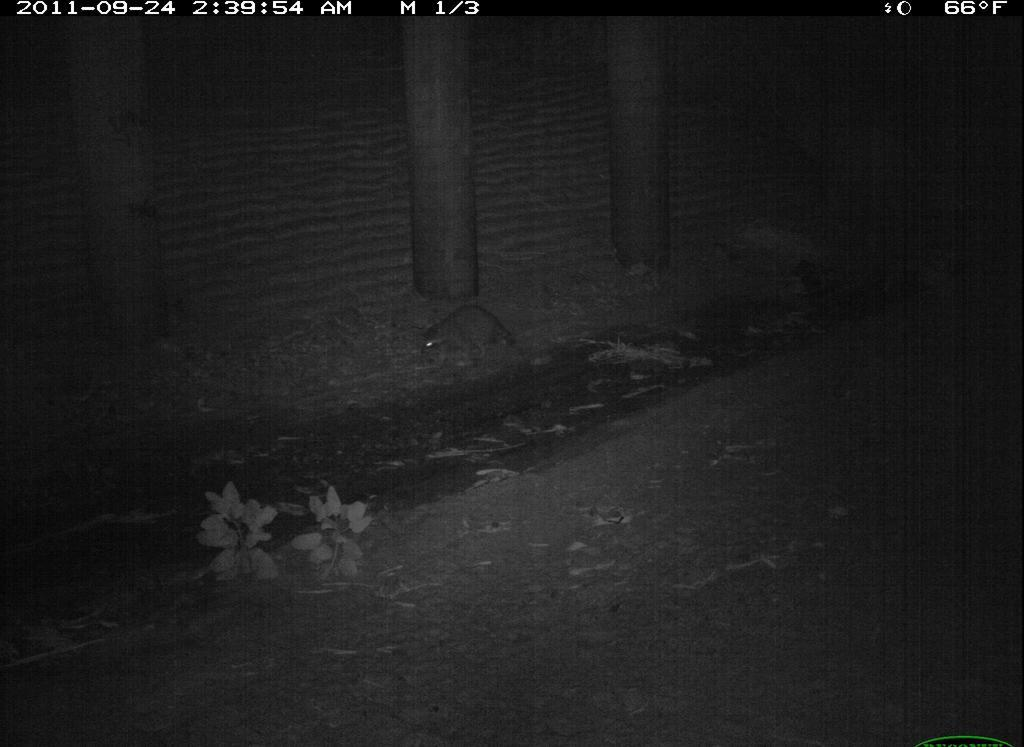raccoon: (833, 598, 1024, 747)
